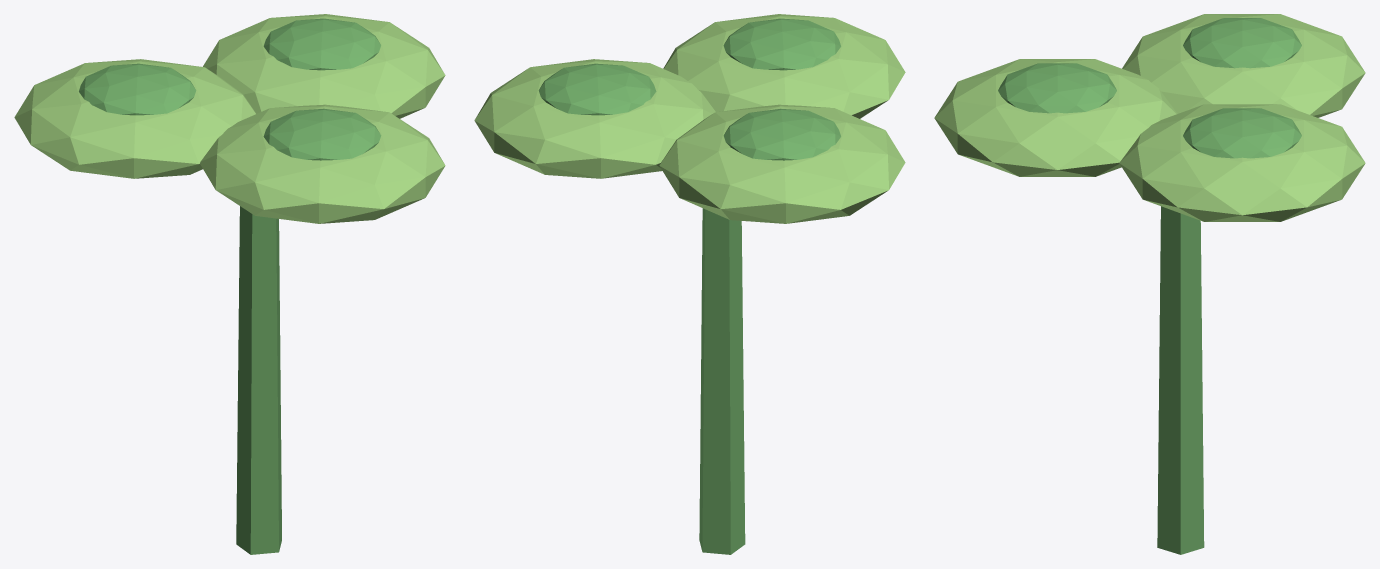
File: deco_clover.obj
3 views of the same model, side by side, from view 1: azimuth 30°, elevation 25°; view 2: azimuth 150°, elevation 25°; view 3: azimuth 270°, elevation 25° (orthographic).
Visible parts, largest first — view 1: deco_clover; view 2: deco_clover; view 3: deco_clover.
Part boxes in pixels (x1,y1,x2,y2): deco_clover: (14, 14, 445, 554); deco_clover: (474, 14, 905, 554); deco_clover: (934, 14, 1365, 554).
Bounding box in the file's own units: 0.0411 × 0.0461 × 0.0385.
Materials: 1 (1 with a texture image).
